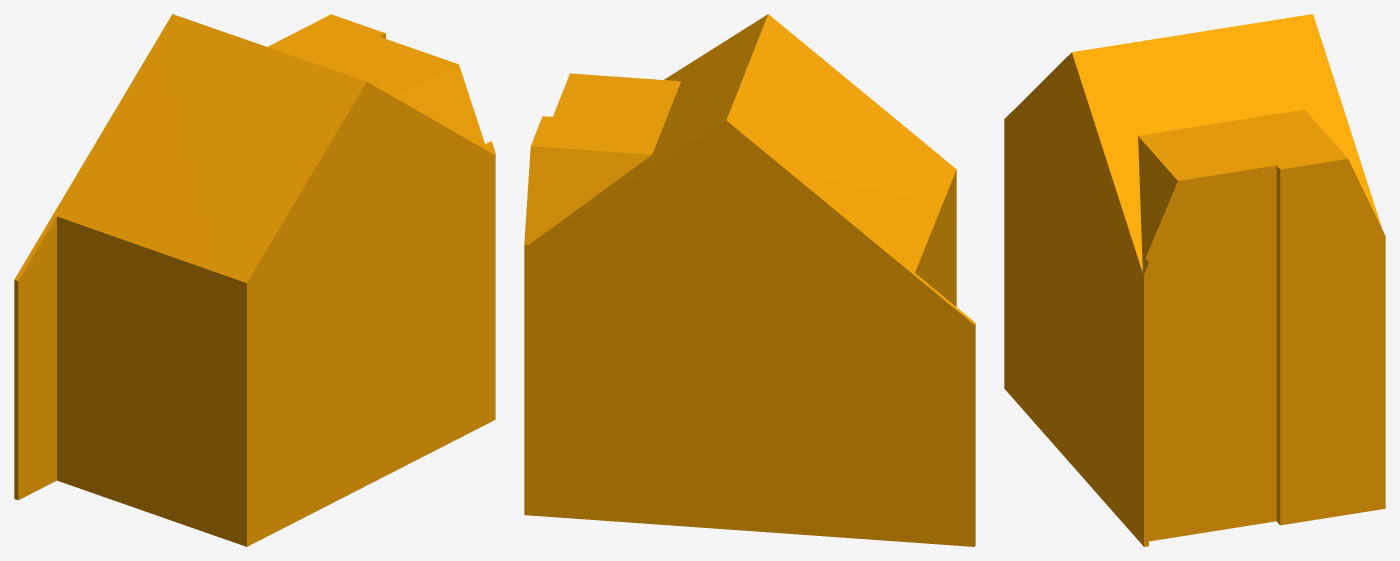
The model's file is DEHB01ALk00017yM.gltf.
3 views of the same model, side by side, from view 1: azimuth 30°, elevation 25°; view 2: azimuth 150°, elevation 25°; view 3: azimuth 270°, elevation 25° (orthographic). The views are drawn at different scales.
Parts seen in each view (by area): view 1: Z_UP; view 2: Z_UP; view 3: Z_UP.
Part boxes in pixels (left/top/right/bottom): Z_UP: left=14, top=14, right=495, bottom=546; Z_UP: left=524, top=14, right=975, bottom=546; Z_UP: left=1004, top=14, right=1385, bottom=546.
Size of the model in its own units: 12.45 by 10.86 by 9.08.
